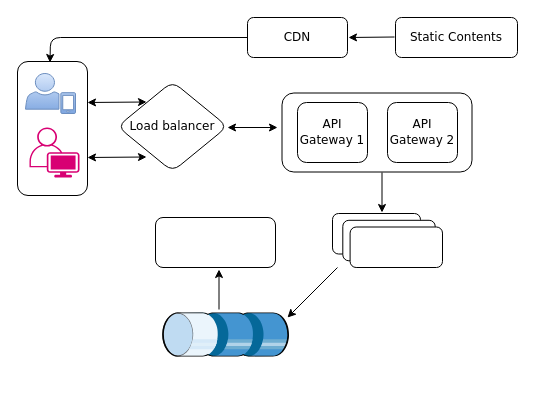
This 535x400 diagram has some shape labels left out. The centre of each missing label's shape, as x and y in pixels:
"Metadata Server" belongs at point 395,247.
"Notification Queue" belongs at point 225,334.
"Notification Service" belongs at point 215,242.
